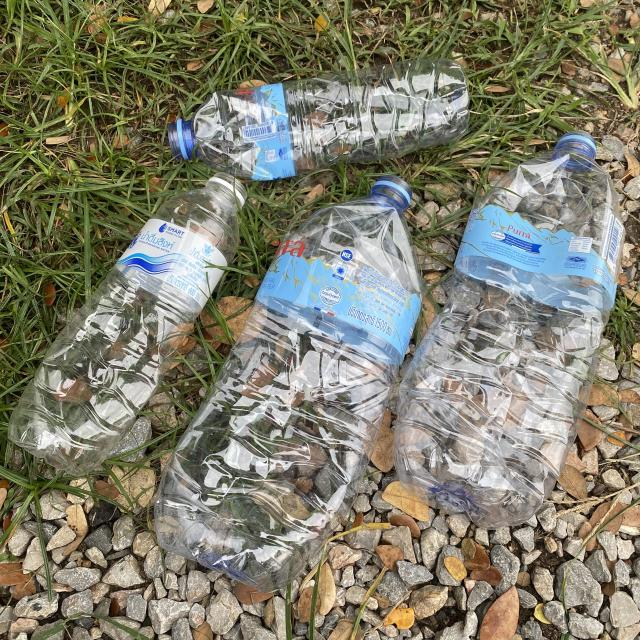plastik: (155, 176, 422, 592), (395, 131, 625, 529), (9, 172, 246, 475), (168, 59, 469, 180)
